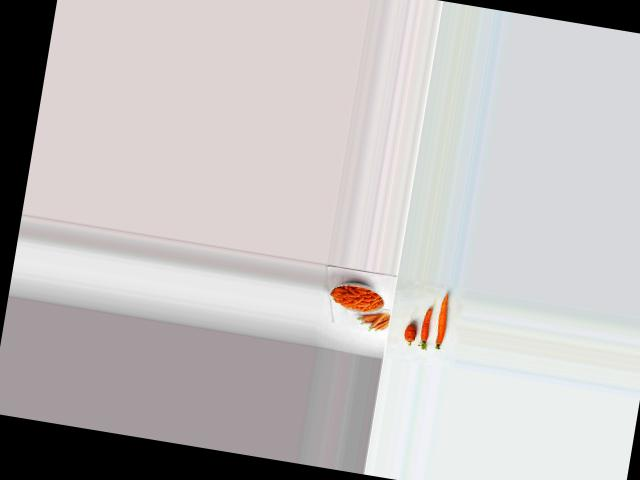carrot: (401, 317, 417, 346)
